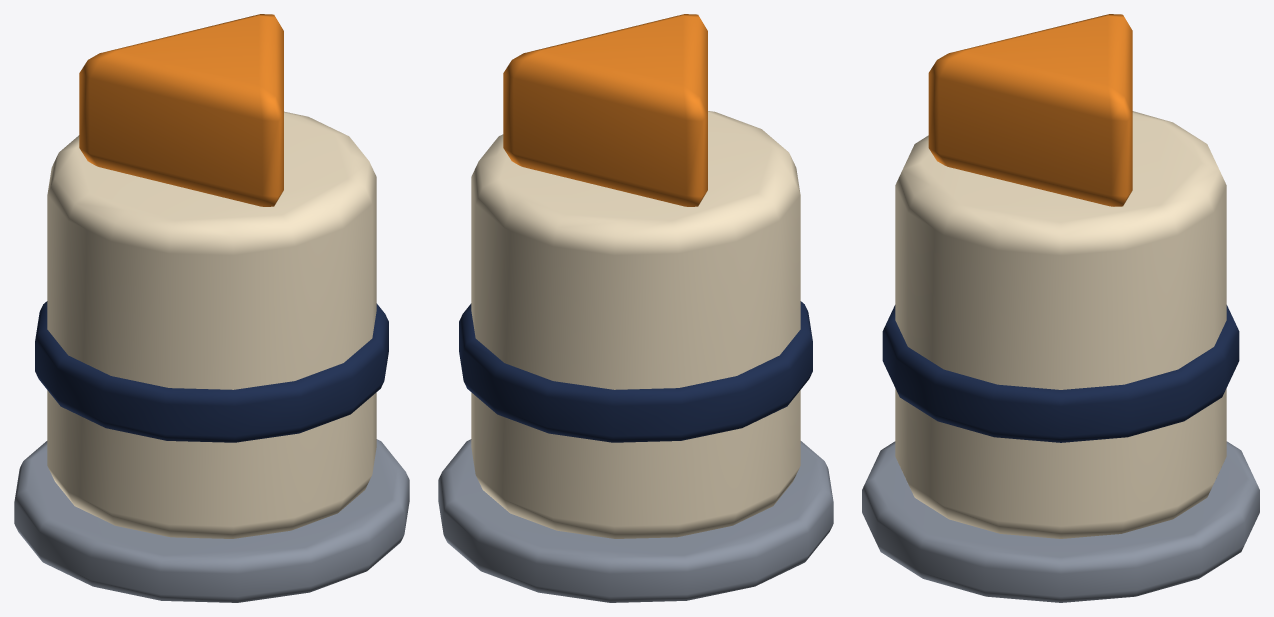
Rendered from Part_Spectrometer.fbx.
3 renders of one model, left to right at view 1: azimuth 30°, elevation 25°; view 2: azimuth 150°, elevation 25°; view 3: azimuth 270°, elevation 25°, orthographic.
Parts seen in each view (by area): view 1: Part_Spectrometer.Body, Part_Spectrometer.Prism, Part_Spectrometer.Plinth, Part_Spectrometer.Band; view 2: Part_Spectrometer.Body, Part_Spectrometer.Prism, Part_Spectrometer.Plinth, Part_Spectrometer.Band; view 3: Part_Spectrometer.Body, Part_Spectrometer.Prism, Part_Spectrometer.Plinth, Part_Spectrometer.Band.
Boxes of the visible parts, x1,y1,x2,y2 form: Part_Spectrometer.Body: (47,111,376,538); Part_Spectrometer.Prism: (79,14,283,206); Part_Spectrometer.Plinth: (14,439,409,602); Part_Spectrometer.Band: (35,301,388,442); Part_Spectrometer.Body: (471,111,800,538); Part_Spectrometer.Prism: (503,14,707,206); Part_Spectrometer.Plinth: (438,439,833,602); Part_Spectrometer.Band: (459,301,812,442); Part_Spectrometer.Body: (895,111,1226,538); Part_Spectrometer.Prism: (928,14,1132,206); Part_Spectrometer.Plinth: (862,441,1259,602); Part_Spectrometer.Band: (882,305,1239,442).
Bounding box in the file's own units: 0.48 × 0.63 × 0.48.
1 material, 1 textured.
